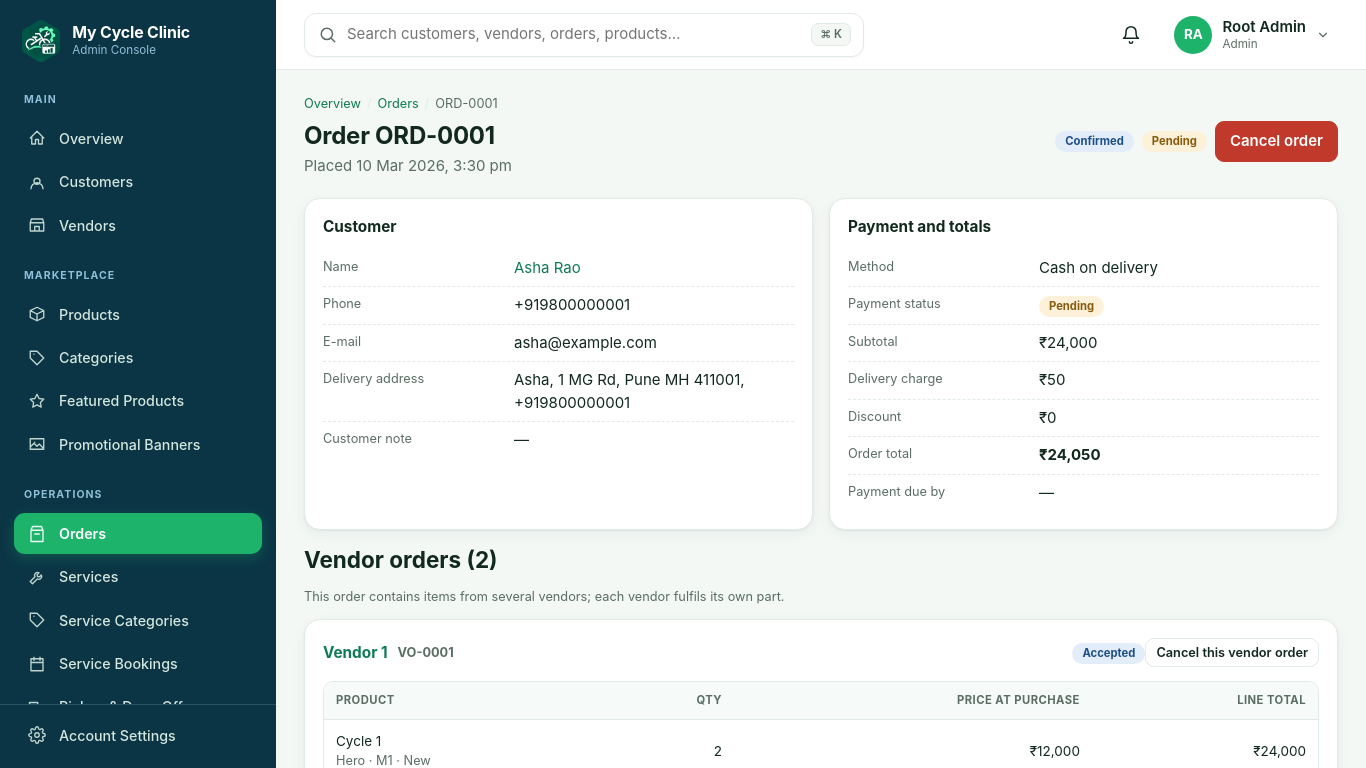
order details › a vendor order can be cancelled with a reason, a delivered one cannot, and nothing can be marked delivered from here
This screenshot has width=1366, height=768.
Check: the heading "Order ORD-0001" is shown, box top-left (304, 121), bottom-right (512, 151)
Click the button "Cancel this vendor order".
click(1232, 653)  # box top-left (1145, 638), bottom-right (1319, 667)
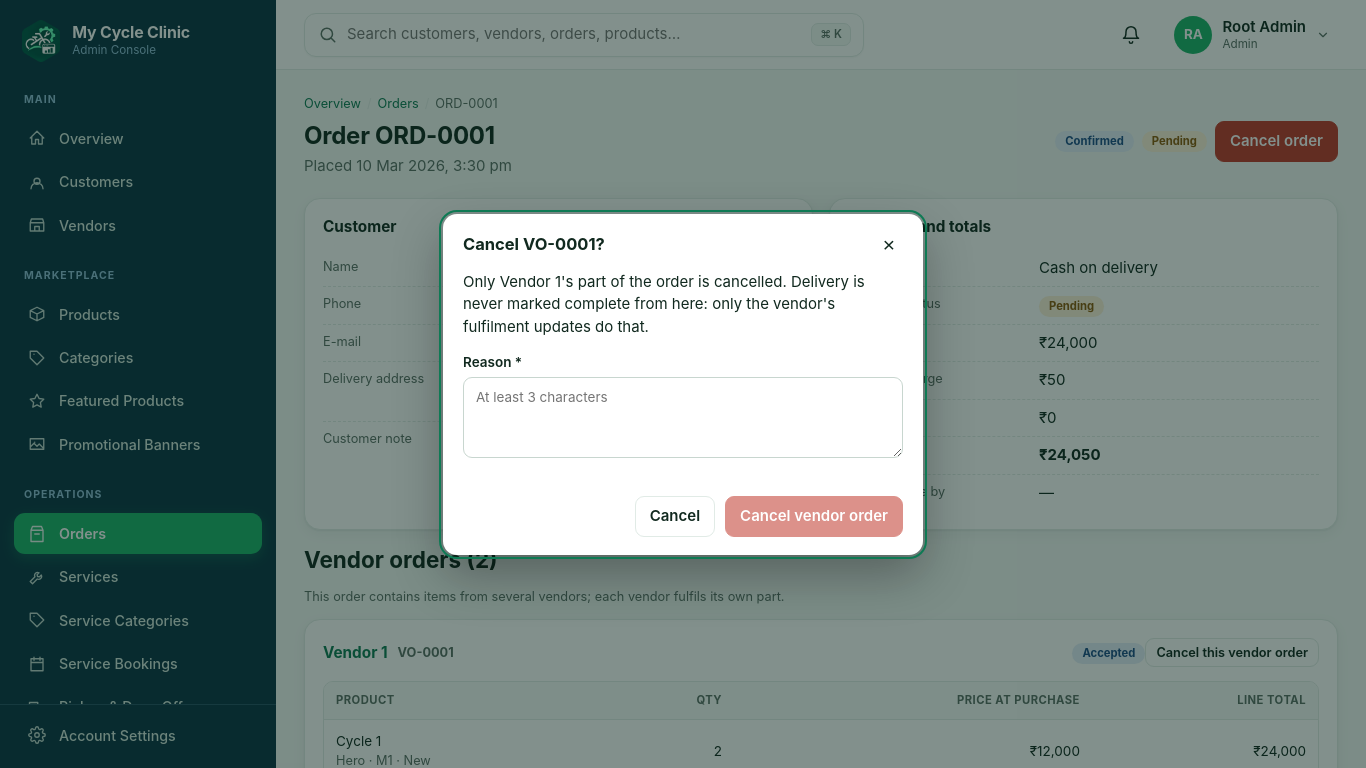
Type "Vendor out of stock" into the text box.
click(683, 418); type("Vendor out of stock")  # box top-left (463, 377), bottom-right (903, 458)
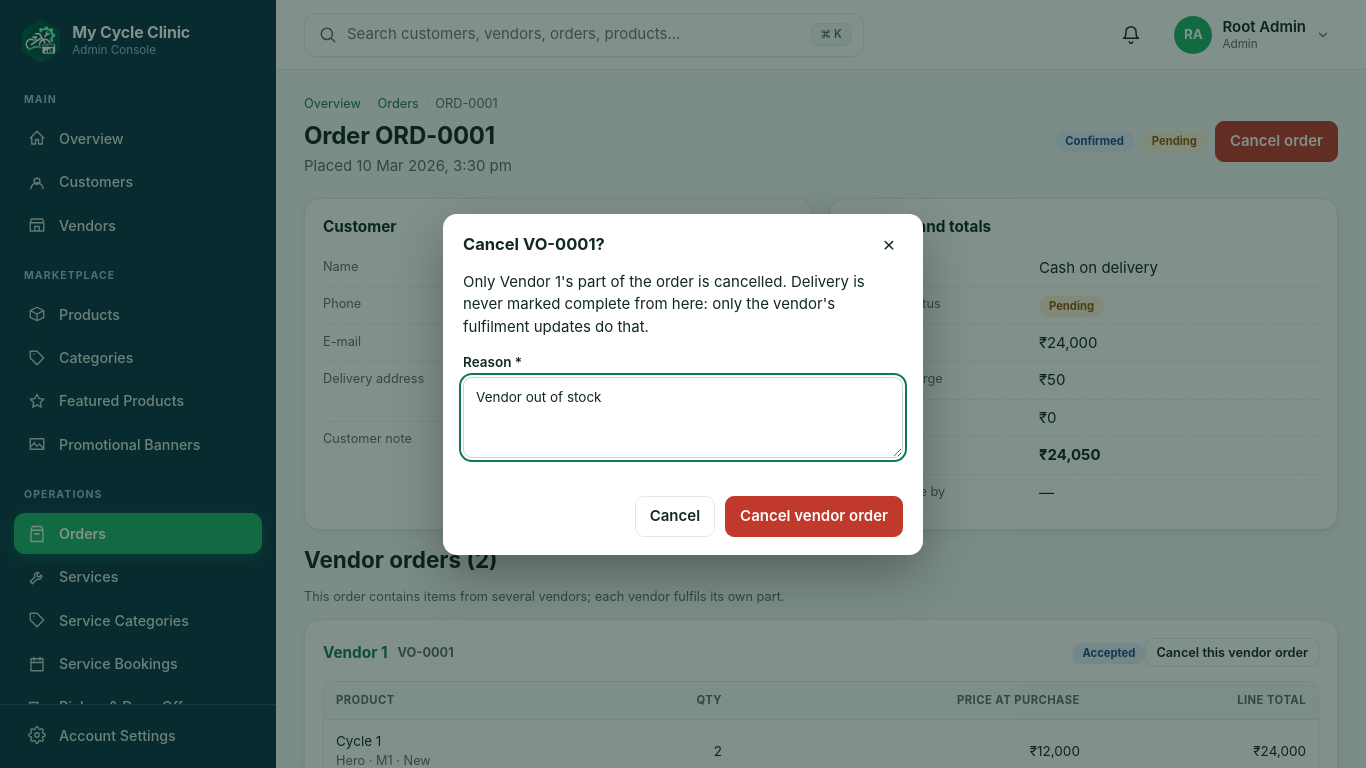
Click the button "Cancel vendor order".
click(814, 516)  # box top-left (725, 496), bottom-right (903, 536)
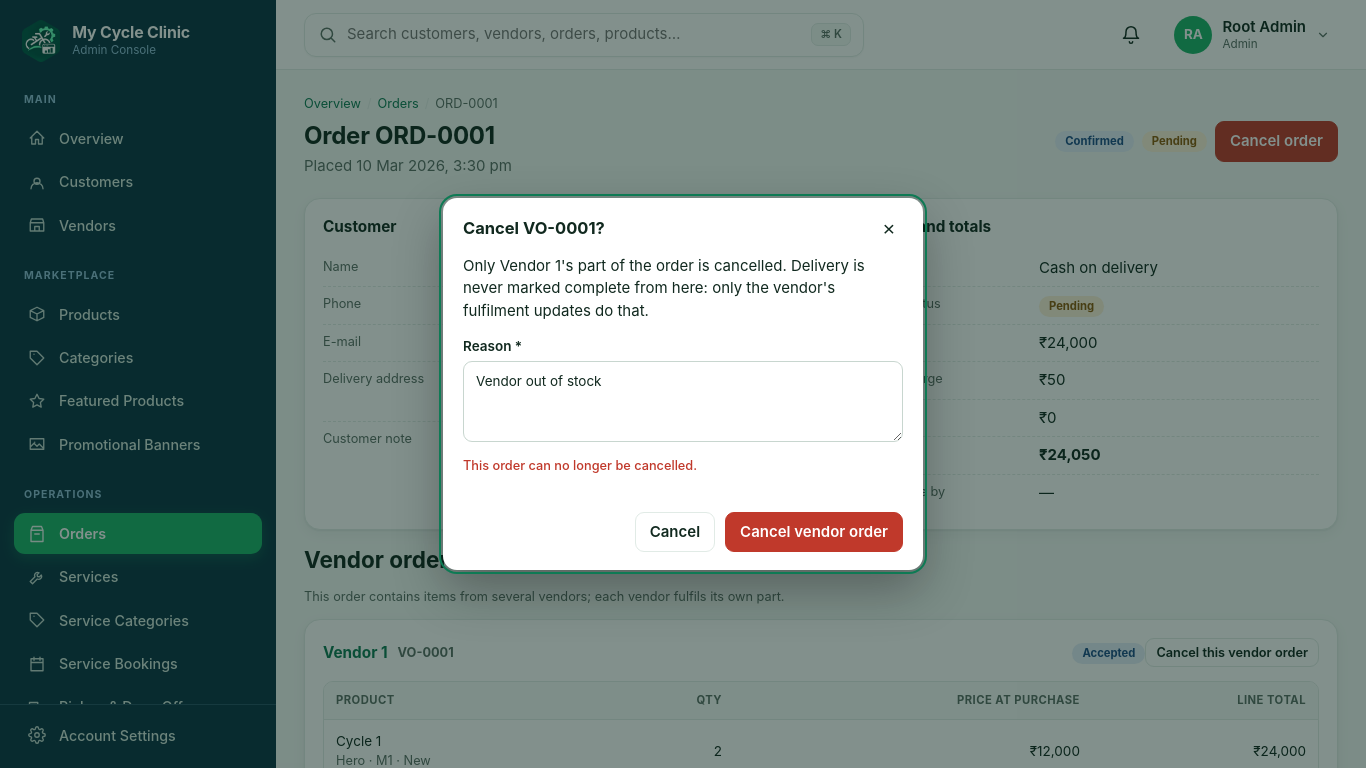
Check: the message shows "can no longer be cancelled", box top-left (463, 458), bottom-right (697, 473)
